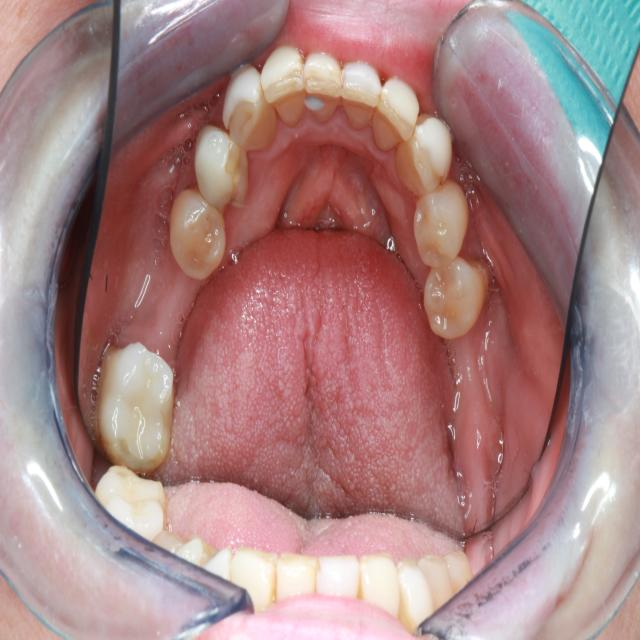tooth: (95, 339, 180, 477), (419, 245, 490, 341), (189, 118, 253, 216), (166, 183, 229, 281), (219, 55, 280, 156), (391, 105, 455, 199), (410, 173, 469, 271), (370, 64, 421, 153), (259, 39, 306, 134), (340, 55, 383, 138), (303, 45, 343, 125)
